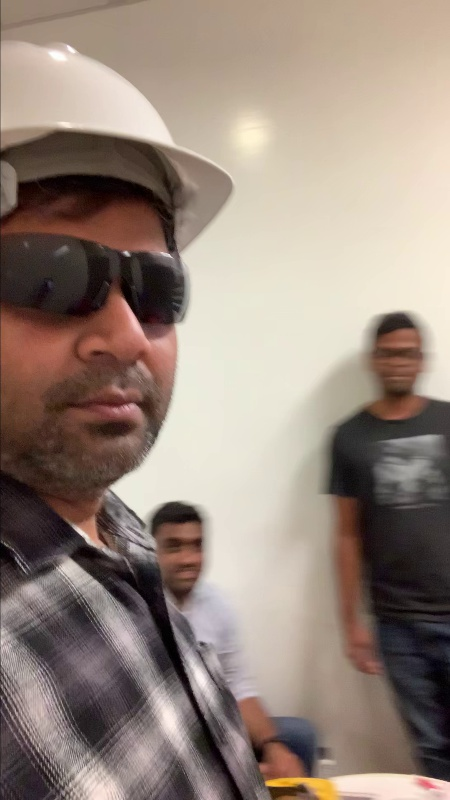glasses: (5, 228, 193, 335)
helmet: (1, 34, 231, 243)
